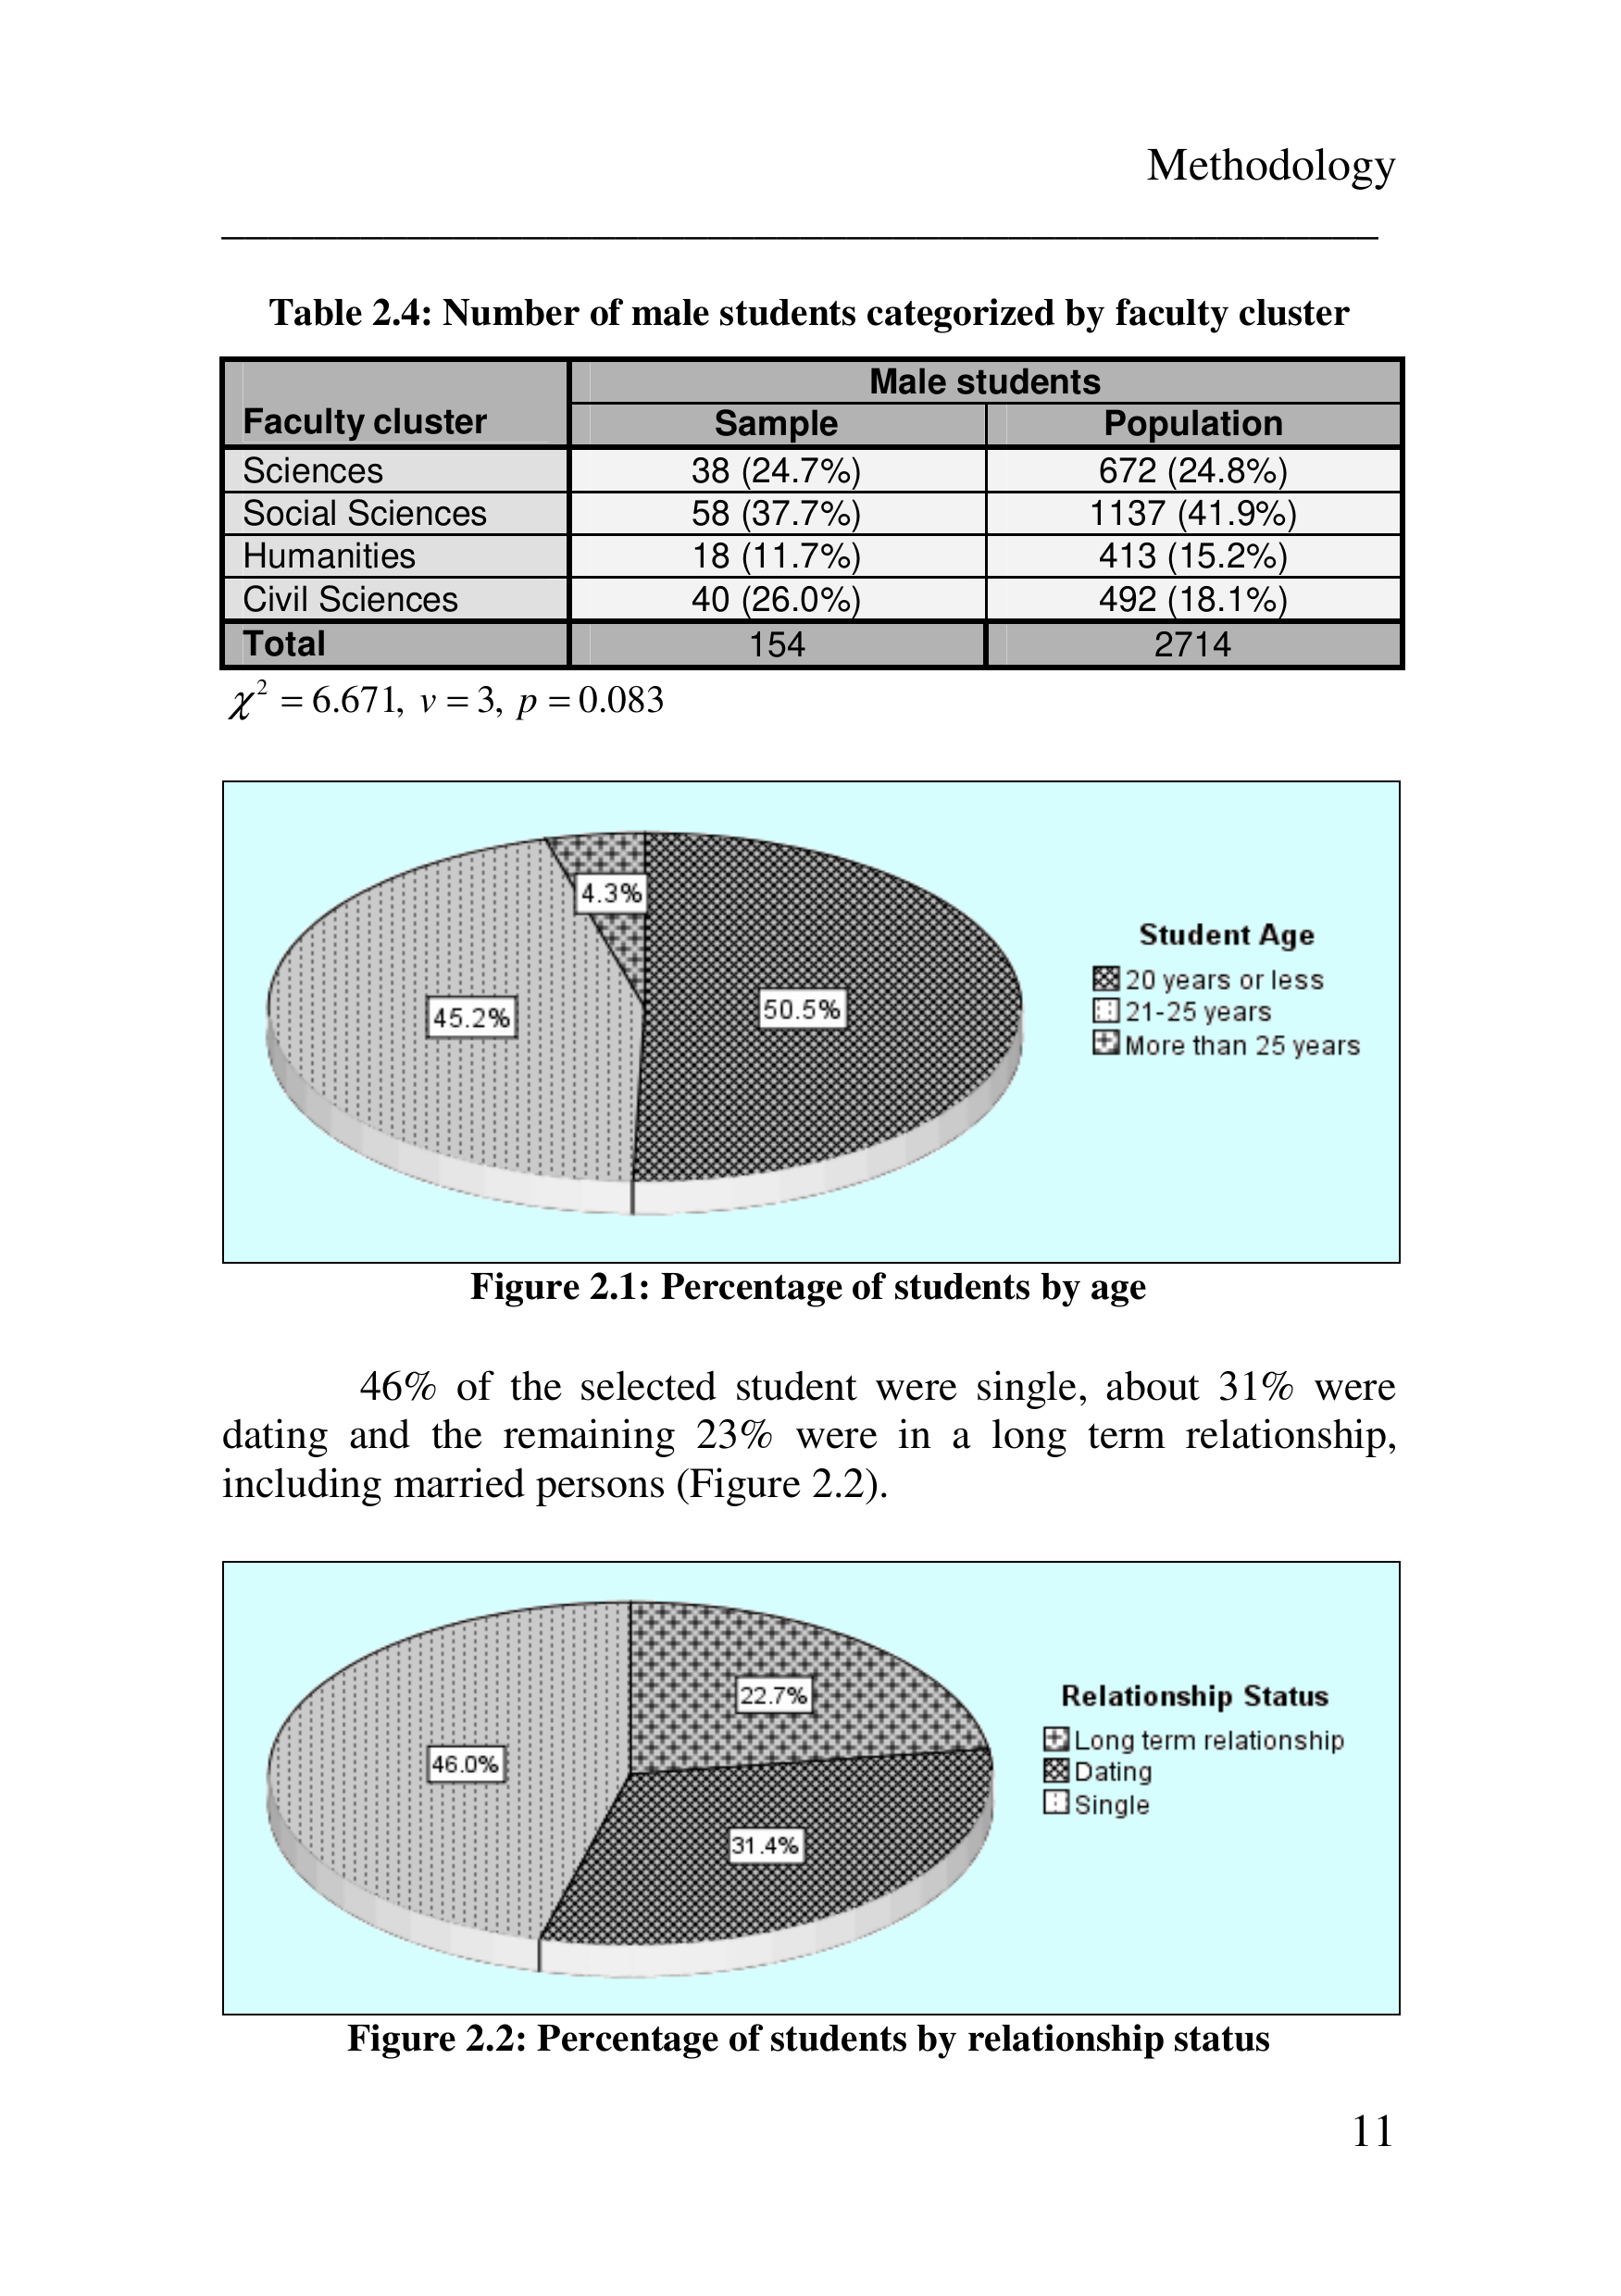table: (218, 356, 1405, 672)
